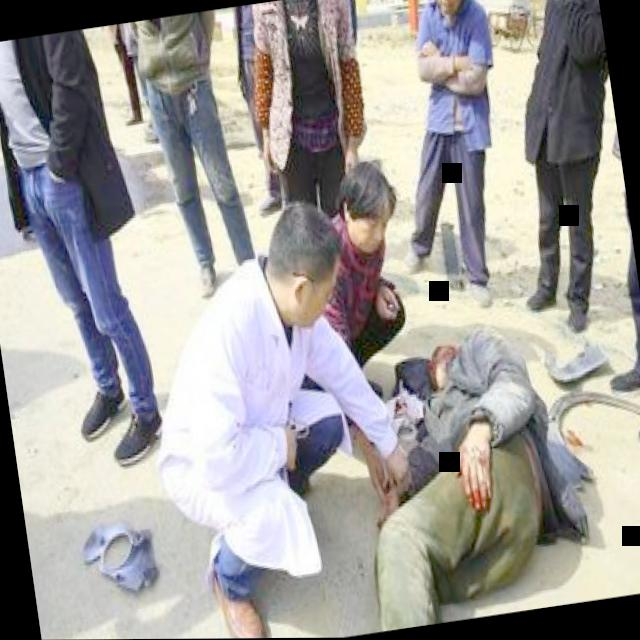Fall-Detected: (317, 291, 627, 636)
